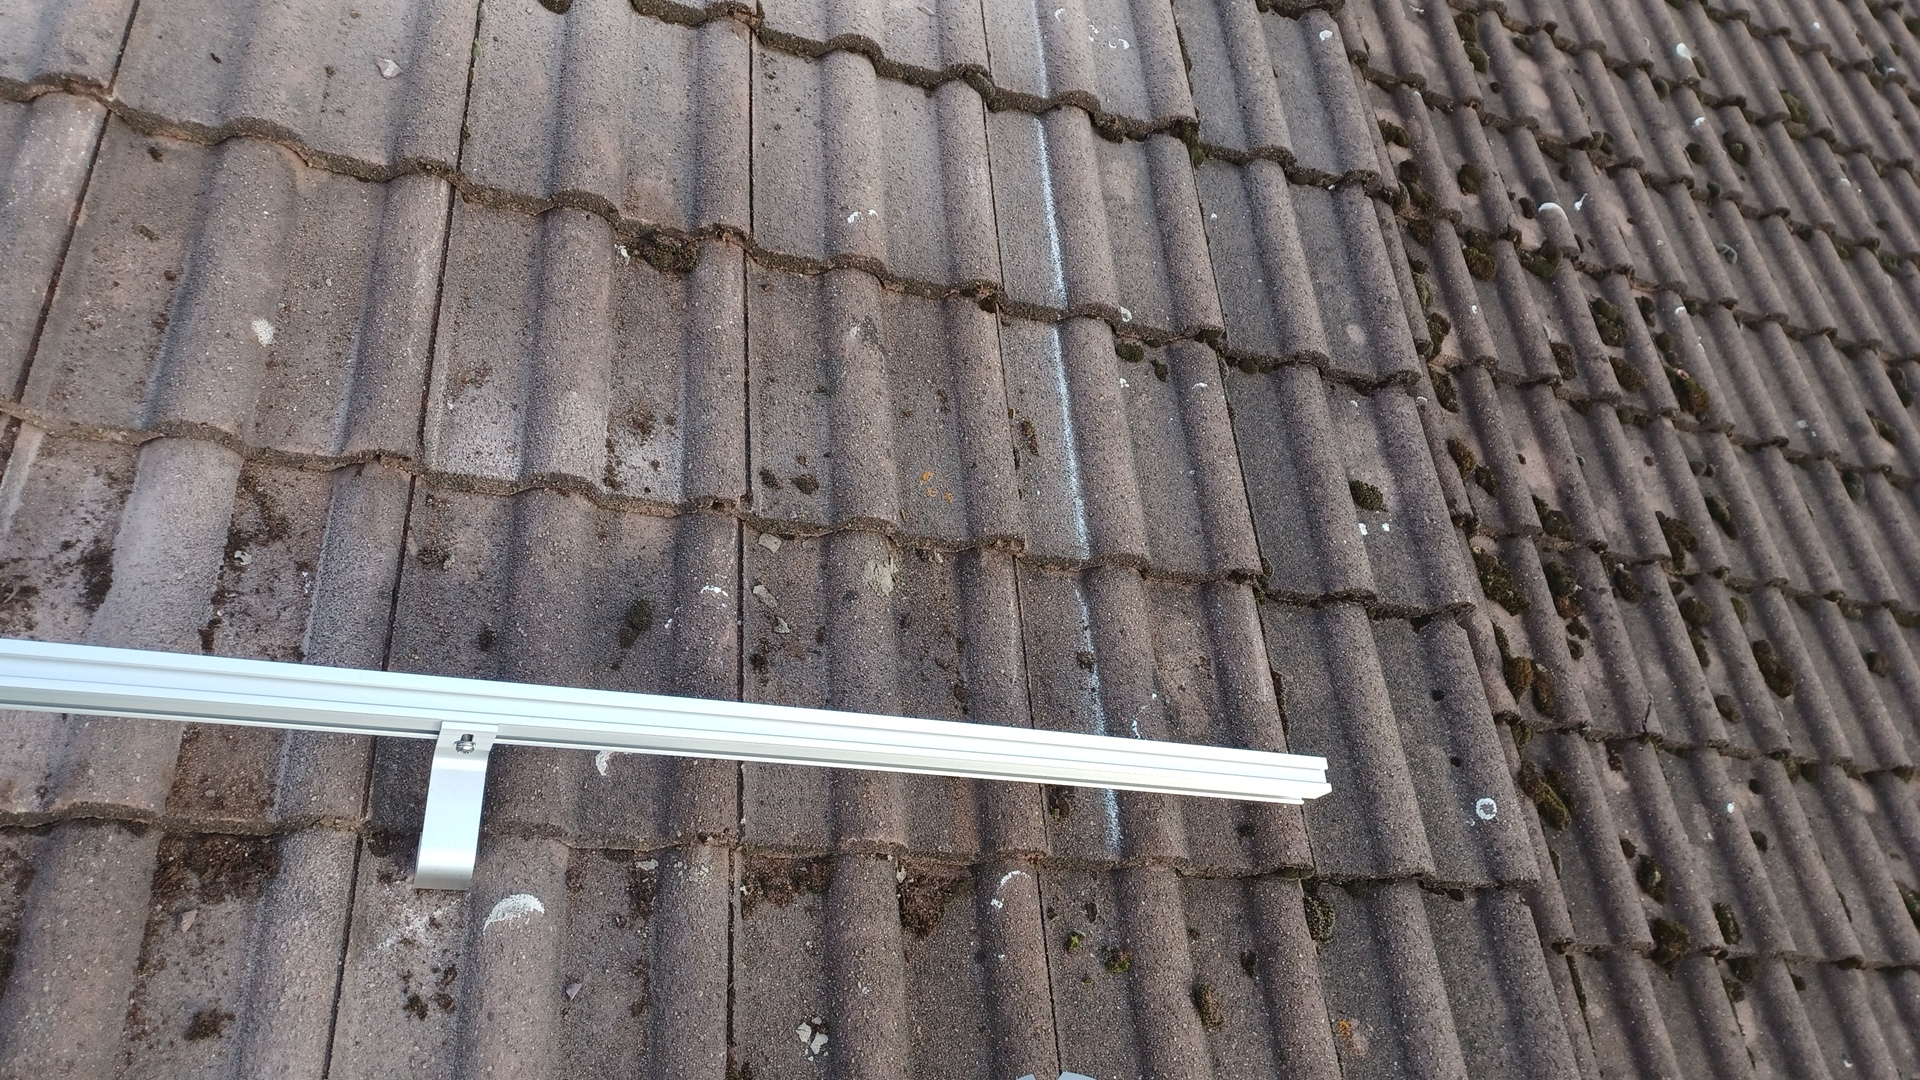hook: (411, 721, 498, 890)
